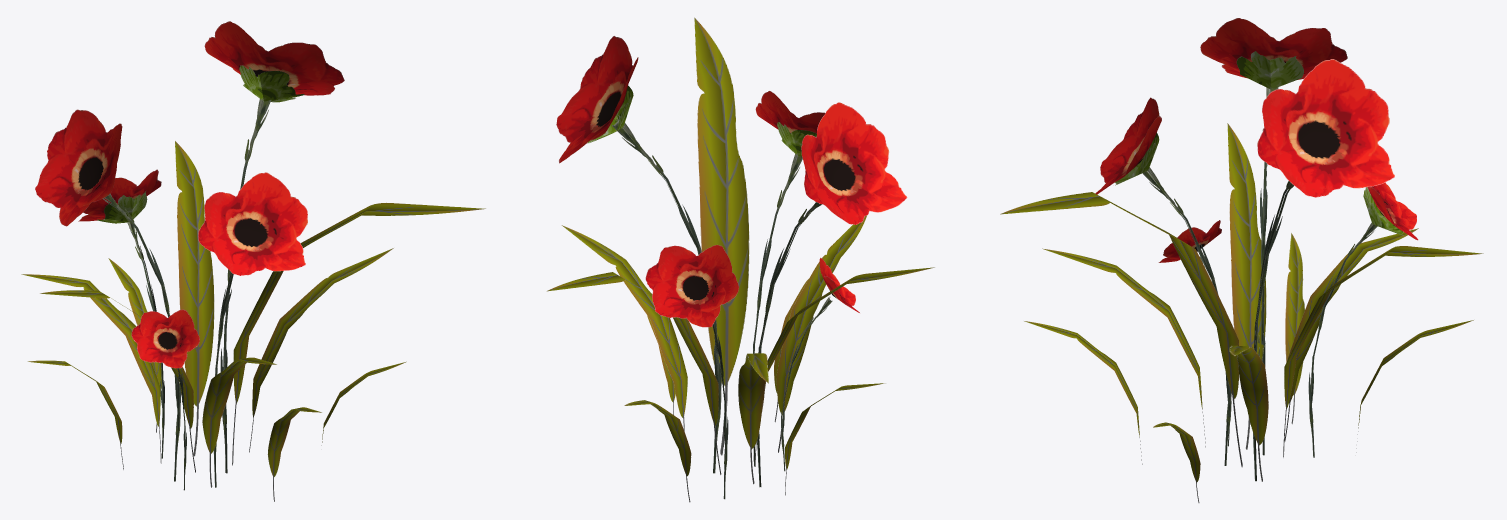
File: Flower_02.FBX
3 views of the same model, side by side, from view 1: azimuth 30°, elevation 25°; view 2: azimuth 150°, elevation 25°; view 3: azimuth 270°, elevation 25° (orthographic). The views are drawn at different scales.
Parts seen in each view (by area): view 1: Flower_02; view 2: Flower_02; view 3: Flower_02.
Part boxes in pixels (bbox=[...]): Flower_02: bbox=[21, 21, 485, 501]; Flower_02: bbox=[546, 17, 934, 502]; Flower_02: bbox=[1000, 18, 1483, 502].
Size of the model in its own units: 0.9037 by 0.998 by 1.05.
